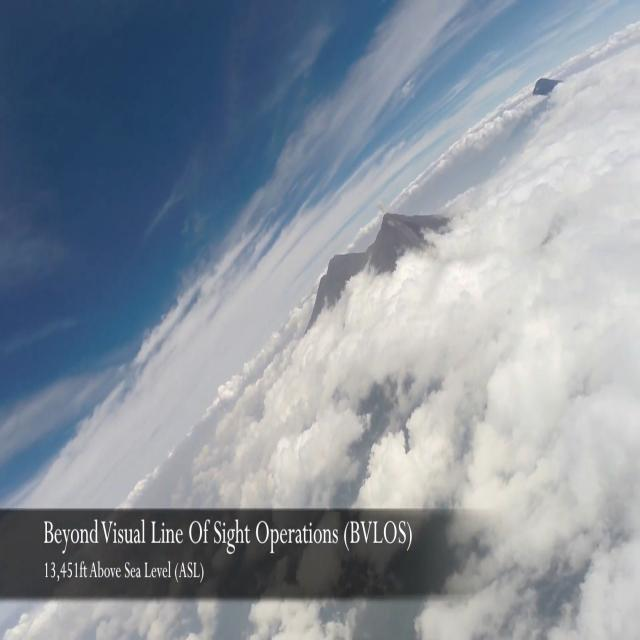Plume: (376, 198, 384, 214)
Summit: (377, 212, 405, 236)
